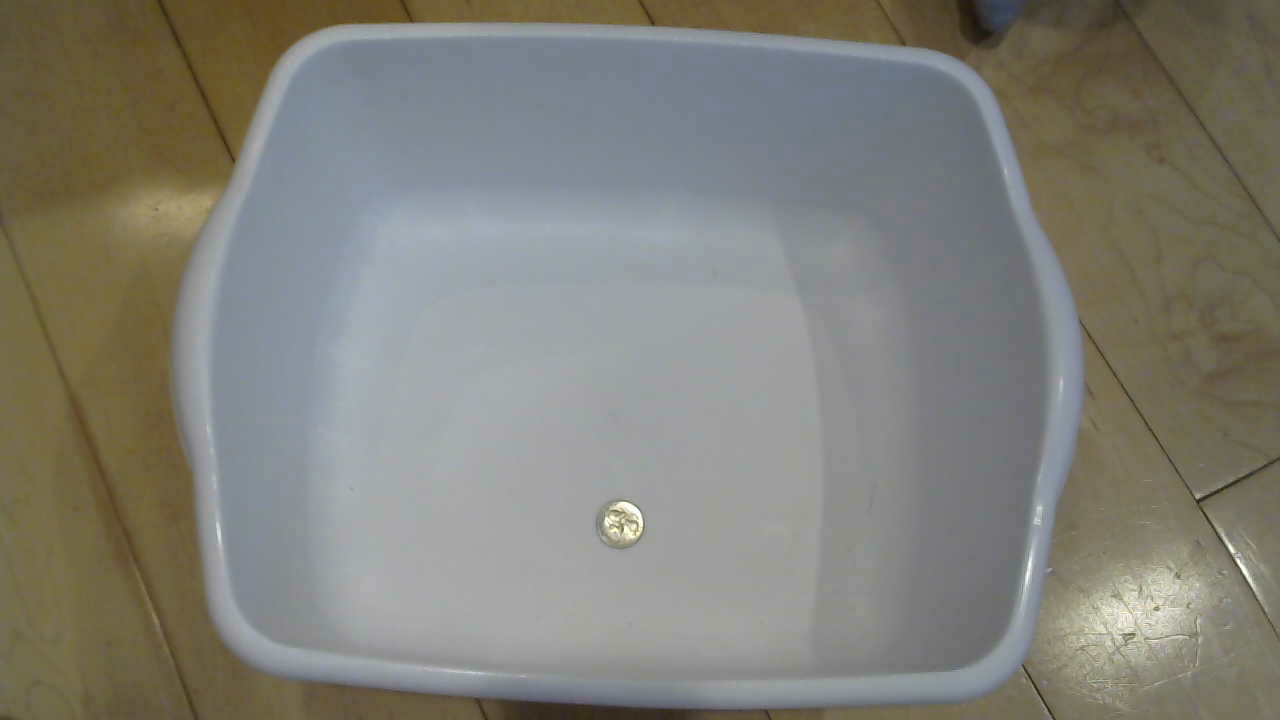coin: (594, 500, 658, 559)
